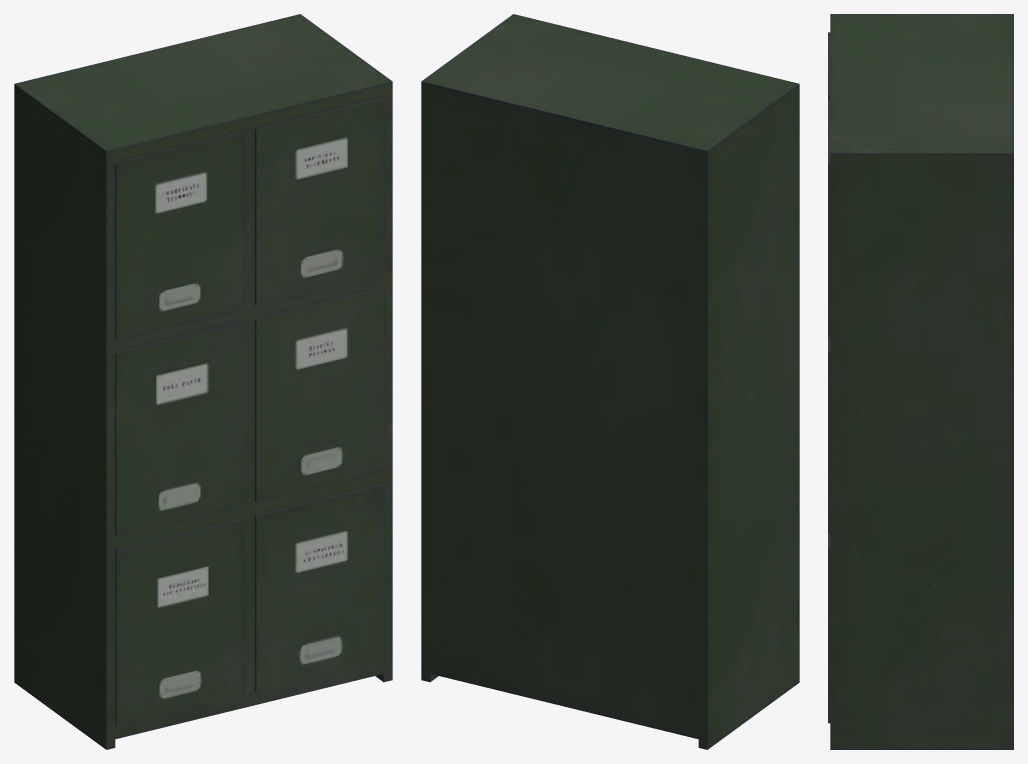
The model's file is filing_cabinet_green-compressed.glb.
3 renders of one model, left to right at view 1: azimuth 30°, elevation 25°; view 2: azimuth 150°, elevation 25°; view 3: azimuth 270°, elevation 25°, orthographic.
Visible parts, largest first — view 1: SM_filing_cabinet_2, SM_filing_cabinet_2draw_3, SM_filing_cabinet_2draw_4, SM_filing_cabinet_2draw_5, SM_filing_cabinet_2draw_1, SM_filing_cabinet_2draw_6, SM_filing_cabinet_2draw_2; view 2: SM_filing_cabinet_2; view 3: SM_filing_cabinet_2, SM_filing_cabinet_2draw_2, SM_filing_cabinet_2draw_4, SM_filing_cabinet_2draw_6.
Part boxes in pixels (x1,y1,x2,y2): SM_filing_cabinet_2: [14, 14, 392, 749]; SM_filing_cabinet_2draw_3: [115, 321, 245, 536]; SM_filing_cabinet_2draw_4: [255, 287, 384, 502]; SM_filing_cabinet_2draw_5: [115, 518, 245, 726]; SM_filing_cabinet_2draw_1: [115, 131, 245, 339]; SM_filing_cabinet_2draw_6: [255, 484, 384, 692]; SM_filing_cabinet_2draw_2: [255, 97, 384, 305]; SM_filing_cabinet_2: [421, 14, 799, 749]; SM_filing_cabinet_2: [830, 14, 1013, 749]; SM_filing_cabinet_2draw_2: [828, 100, 830, 337]; SM_filing_cabinet_2draw_4: [828, 338, 830, 533]; SM_filing_cabinet_2draw_6: [828, 534, 830, 723].
Size of the model in its own units: 0.9248 by 1.85 by 0.522.
Materials: 1 (1 with a texture image).
